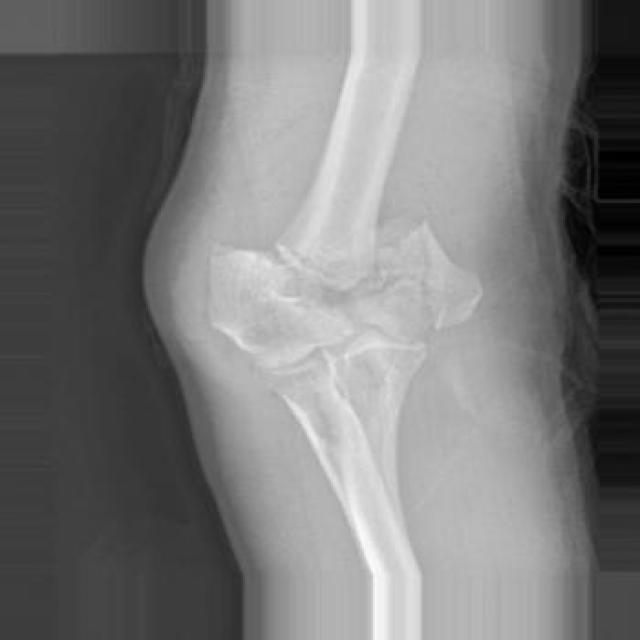Fracture: (369, 199, 442, 270)
